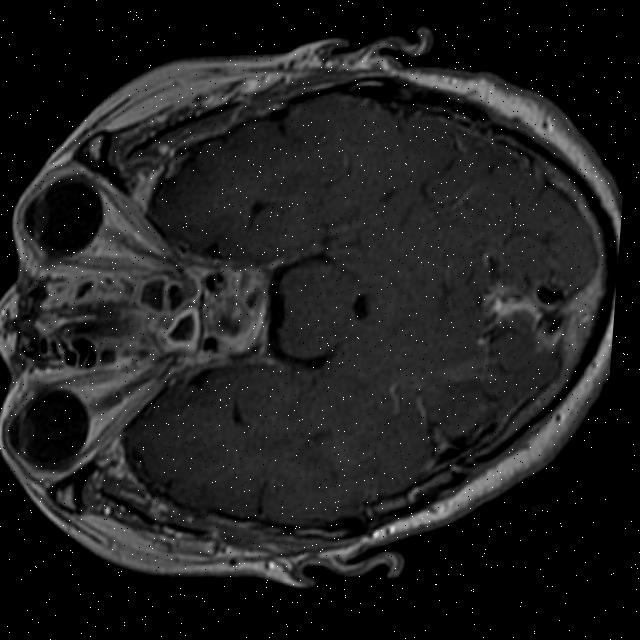Pituitary: (199, 268, 272, 348)
